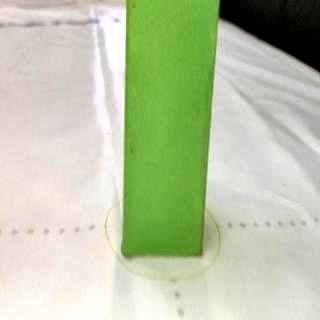greenbox: (120, 0, 220, 259)
